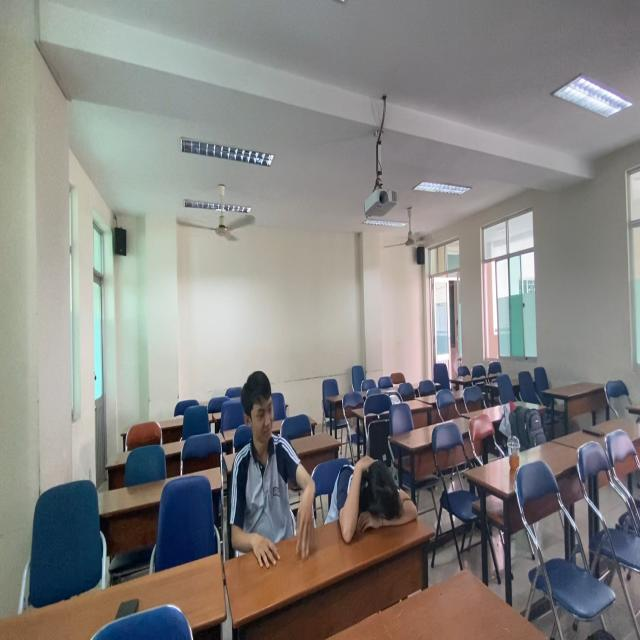sleep: (323, 443, 425, 550)
